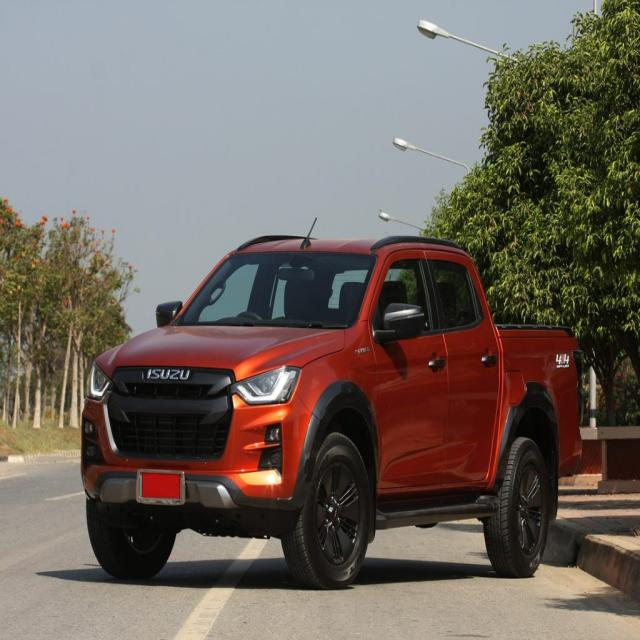car: (81, 237, 581, 588)
